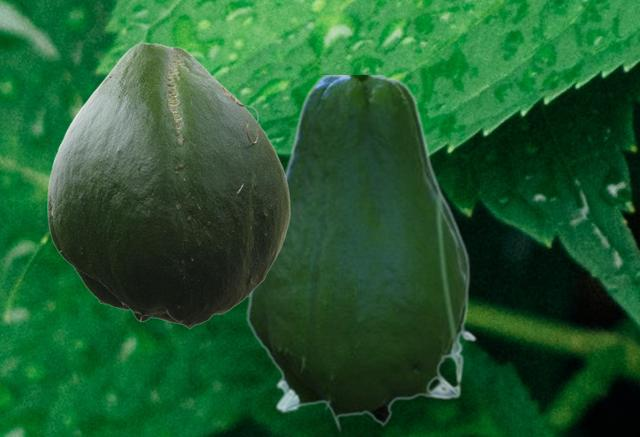sayote: (246, 75, 476, 431), (47, 42, 289, 328)
